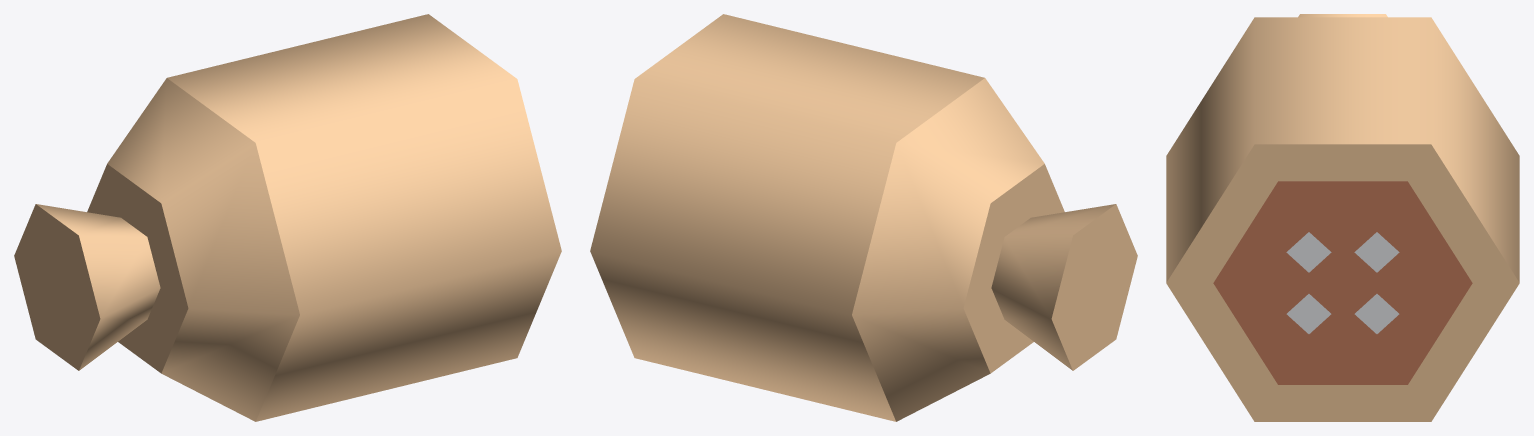
Rendered from sausageHalf.obj.
The picture shows the model from 3 angles, left to right: view 1: azimuth 30°, elevation 25°; view 2: azimuth 150°, elevation 25°; view 3: azimuth 270°, elevation 25°; orthographic projection.
Visible parts, largest first — view 1: sausageHalf; view 2: sausageHalf; view 3: sausageHalf.
Boxes of the visible parts, box(x1,y1,x2,y2) form: sausageHalf: box(14, 14, 561, 421); sausageHalf: box(590, 14, 1137, 421); sausageHalf: box(1166, 14, 1519, 421).
Bounding box in the file's own units: 0.1853 × 0.1189 × 0.1373.
